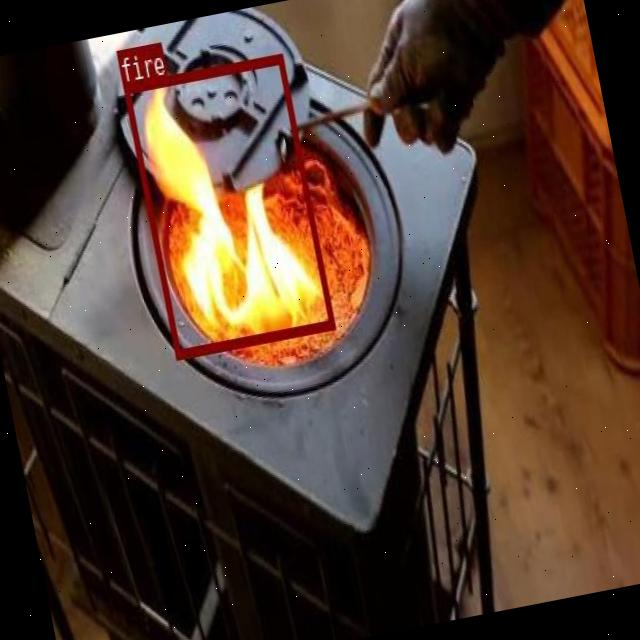fire: (123, 54, 334, 358)
